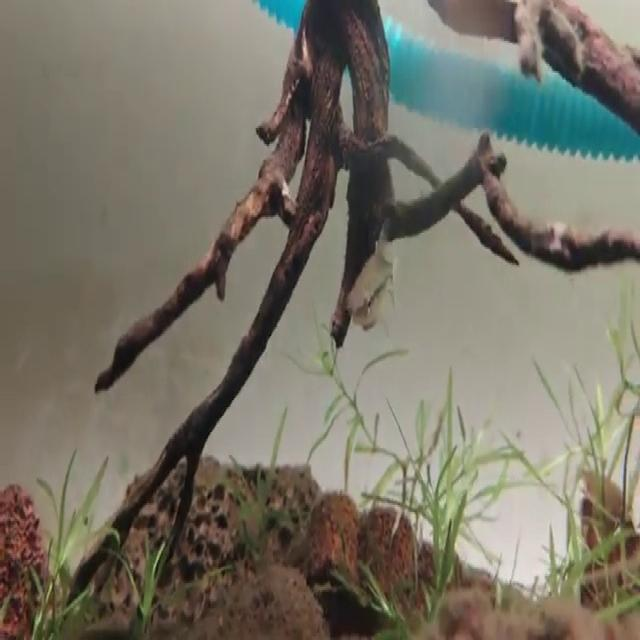Cakil Baligi: (341, 213, 405, 346)
